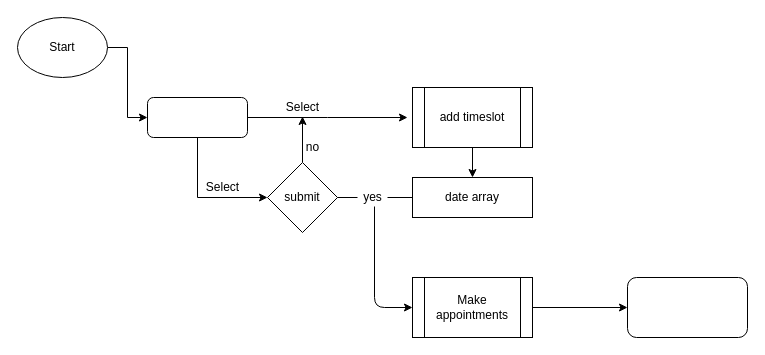
Image size: 765x355. Some labels were removed from this diagram. Here are the shapes that lost their labels. From the top down, the centre of each, then its label:
At point (197, 117): "User".
At point (687, 307): "Appointments".
